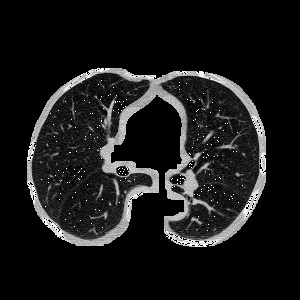PN: (235, 172, 239, 176)
